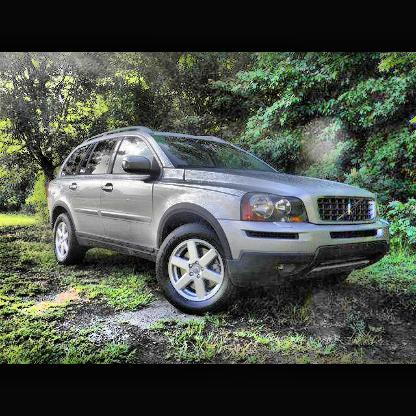Volvo XC90 SUV 2007: (49, 128, 391, 312)
